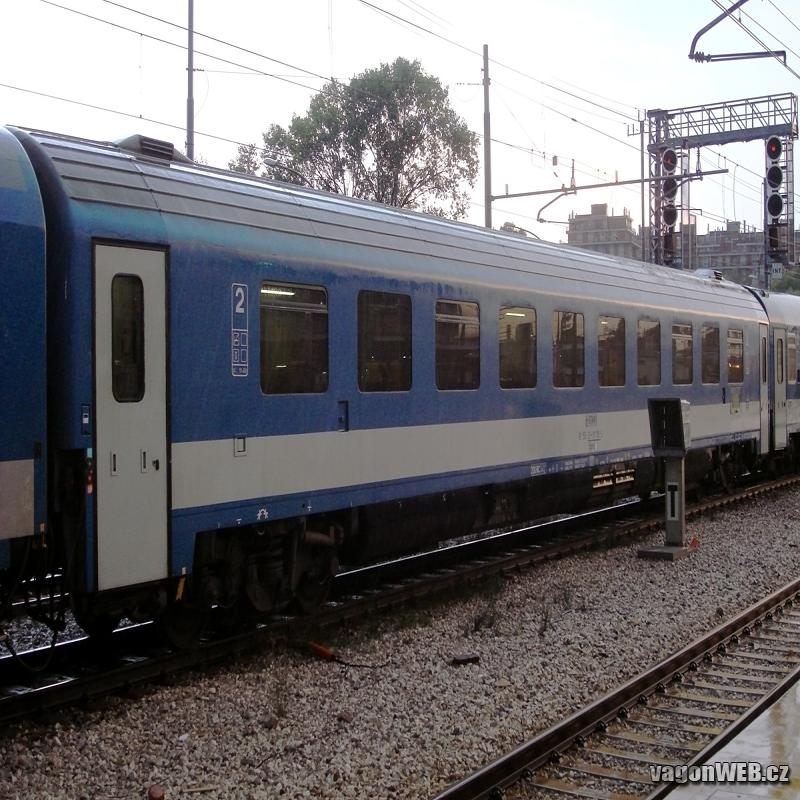train: (6, 123, 770, 667)
